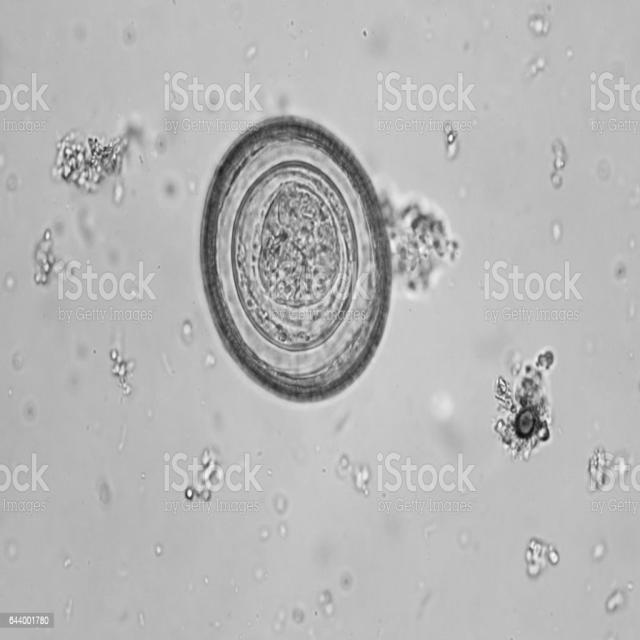Hymenolepis: (196, 114, 400, 410)
